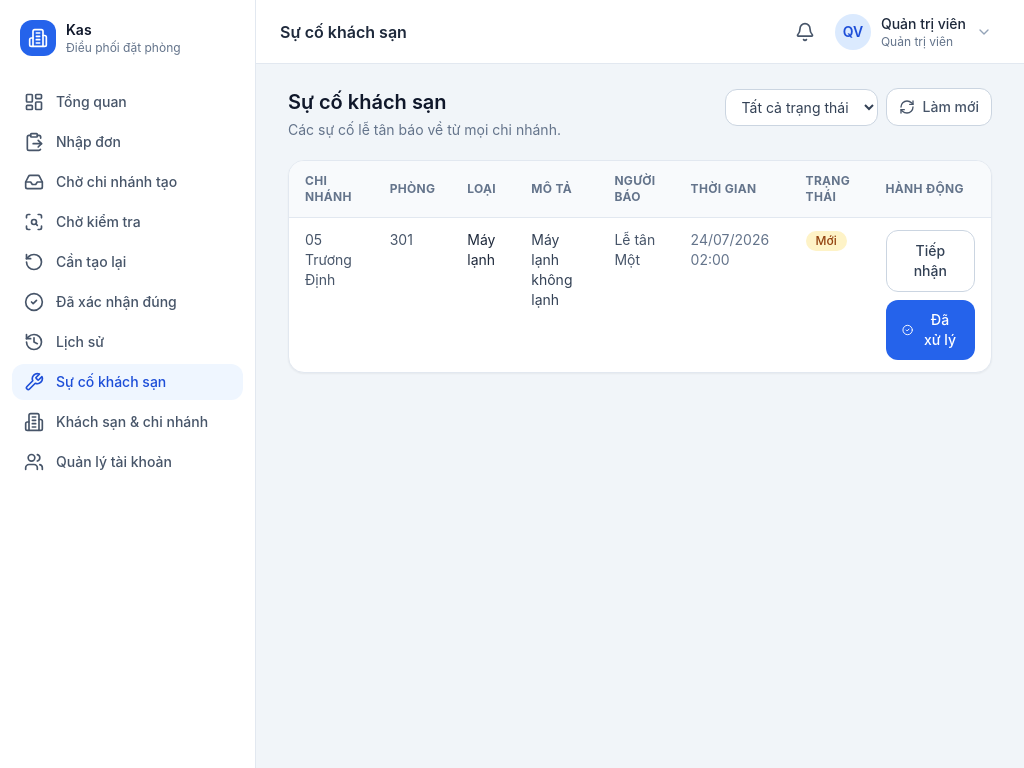
Scenario: IssuesPage — admin › lists issues and accepts then resolves one
Expected: the text "05 Trương Định" is shown, left=289, top=218, right=374, bottom=372
Expected: the text "Máy lạnh" is shown, left=451, top=218, right=515, bottom=372
Click the button "Tiếp nhận".
click(930, 261)  # box left=886, top=230, right=975, bottom=292
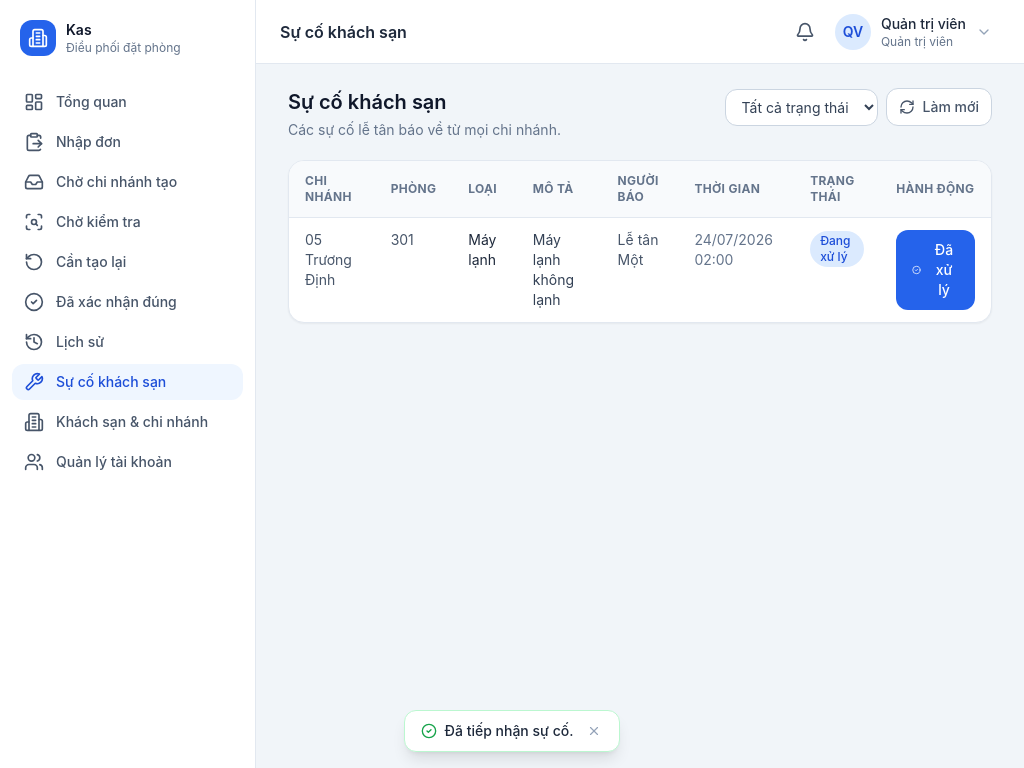
Expected: the text "Đã tiếp nhận sự cố." is shown, left=445, top=721, right=574, bottom=741
Click the button "Đã xử lý".
click(936, 270)  # box left=896, top=230, right=975, bottom=310
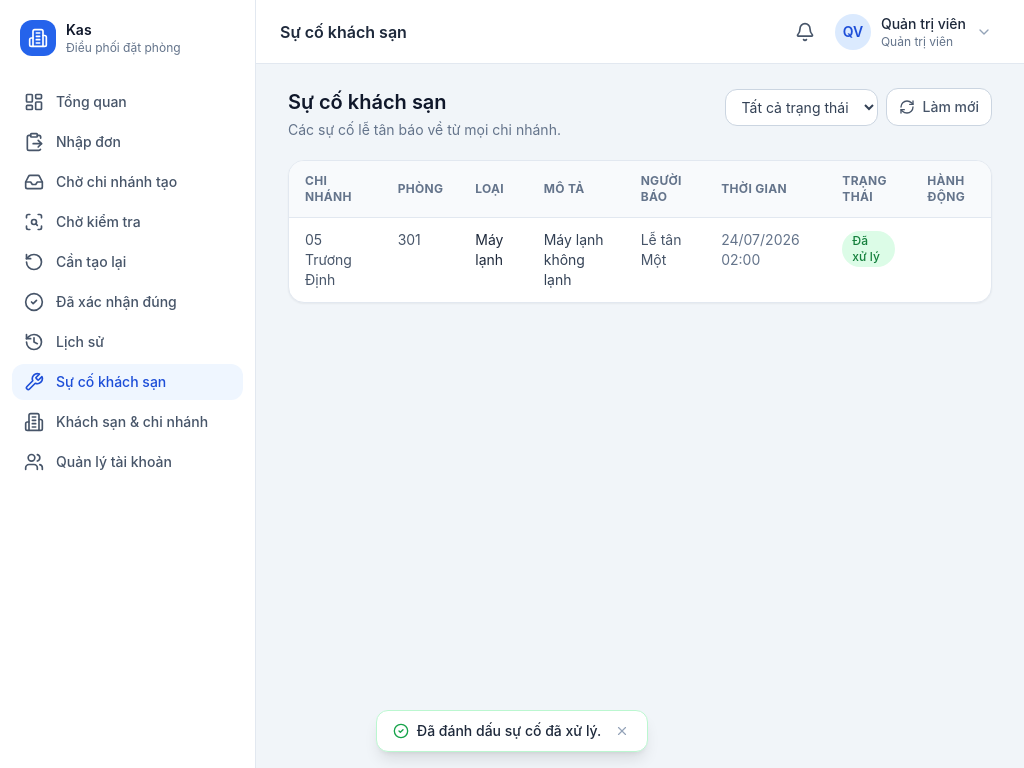
Expected: the text "Đã đánh dấu sự cố đã xử lý." is shown, left=417, top=721, right=601, bottom=741
